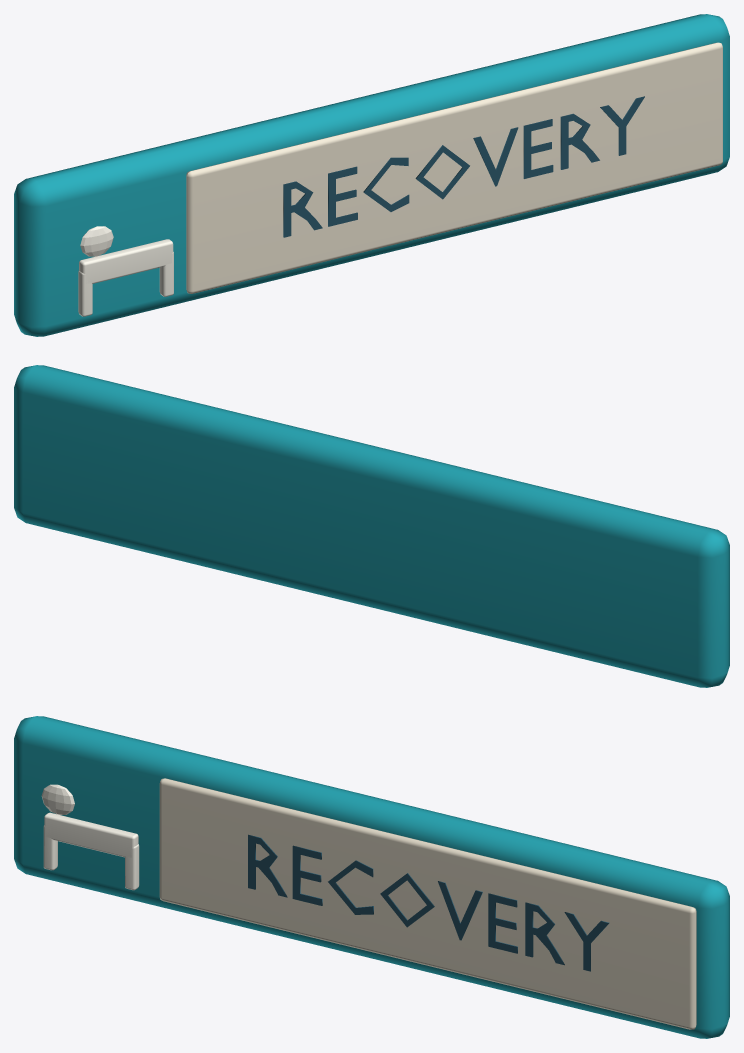
The model's file is Clinical_Sign_Recovery.glb.
3 views of the same model, one above another, from view 1: azimuth 30°, elevation 25°; view 2: azimuth 150°, elevation 25°; view 3: azimuth 330°, elevation 25° (orthographic).
Parts seen in each view (by area): view 1: Clinical_Sign_Recovery_cream, Clinical_Sign_Recovery_teal, Clinical_Sign_Recovery_navy, Clinical_Sign_Recovery_paper; view 2: Clinical_Sign_Recovery_teal; view 3: Clinical_Sign_Recovery_cream, Clinical_Sign_Recovery_teal, Clinical_Sign_Recovery_navy, Clinical_Sign_Recovery_paper.
Boxes of the visible parts, x1,y1,x2,y2 form: Clinical_Sign_Recovery_cream: (186, 42, 722, 293); Clinical_Sign_Recovery_teal: (14, 14, 729, 336); Clinical_Sign_Recovery_navy: (283, 96, 644, 237); Clinical_Sign_Recovery_paper: (78, 226, 173, 316); Clinical_Sign_Recovery_teal: (14, 365, 729, 687); Clinical_Sign_Recovery_cream: (159, 778, 696, 1029); Clinical_Sign_Recovery_teal: (14, 716, 729, 1038); Clinical_Sign_Recovery_navy: (248, 834, 609, 971); Clinical_Sign_Recovery_paper: (41, 784, 139, 890).
Bounding box in the file's own units: 1.48 × 0.31 × 0.122.
